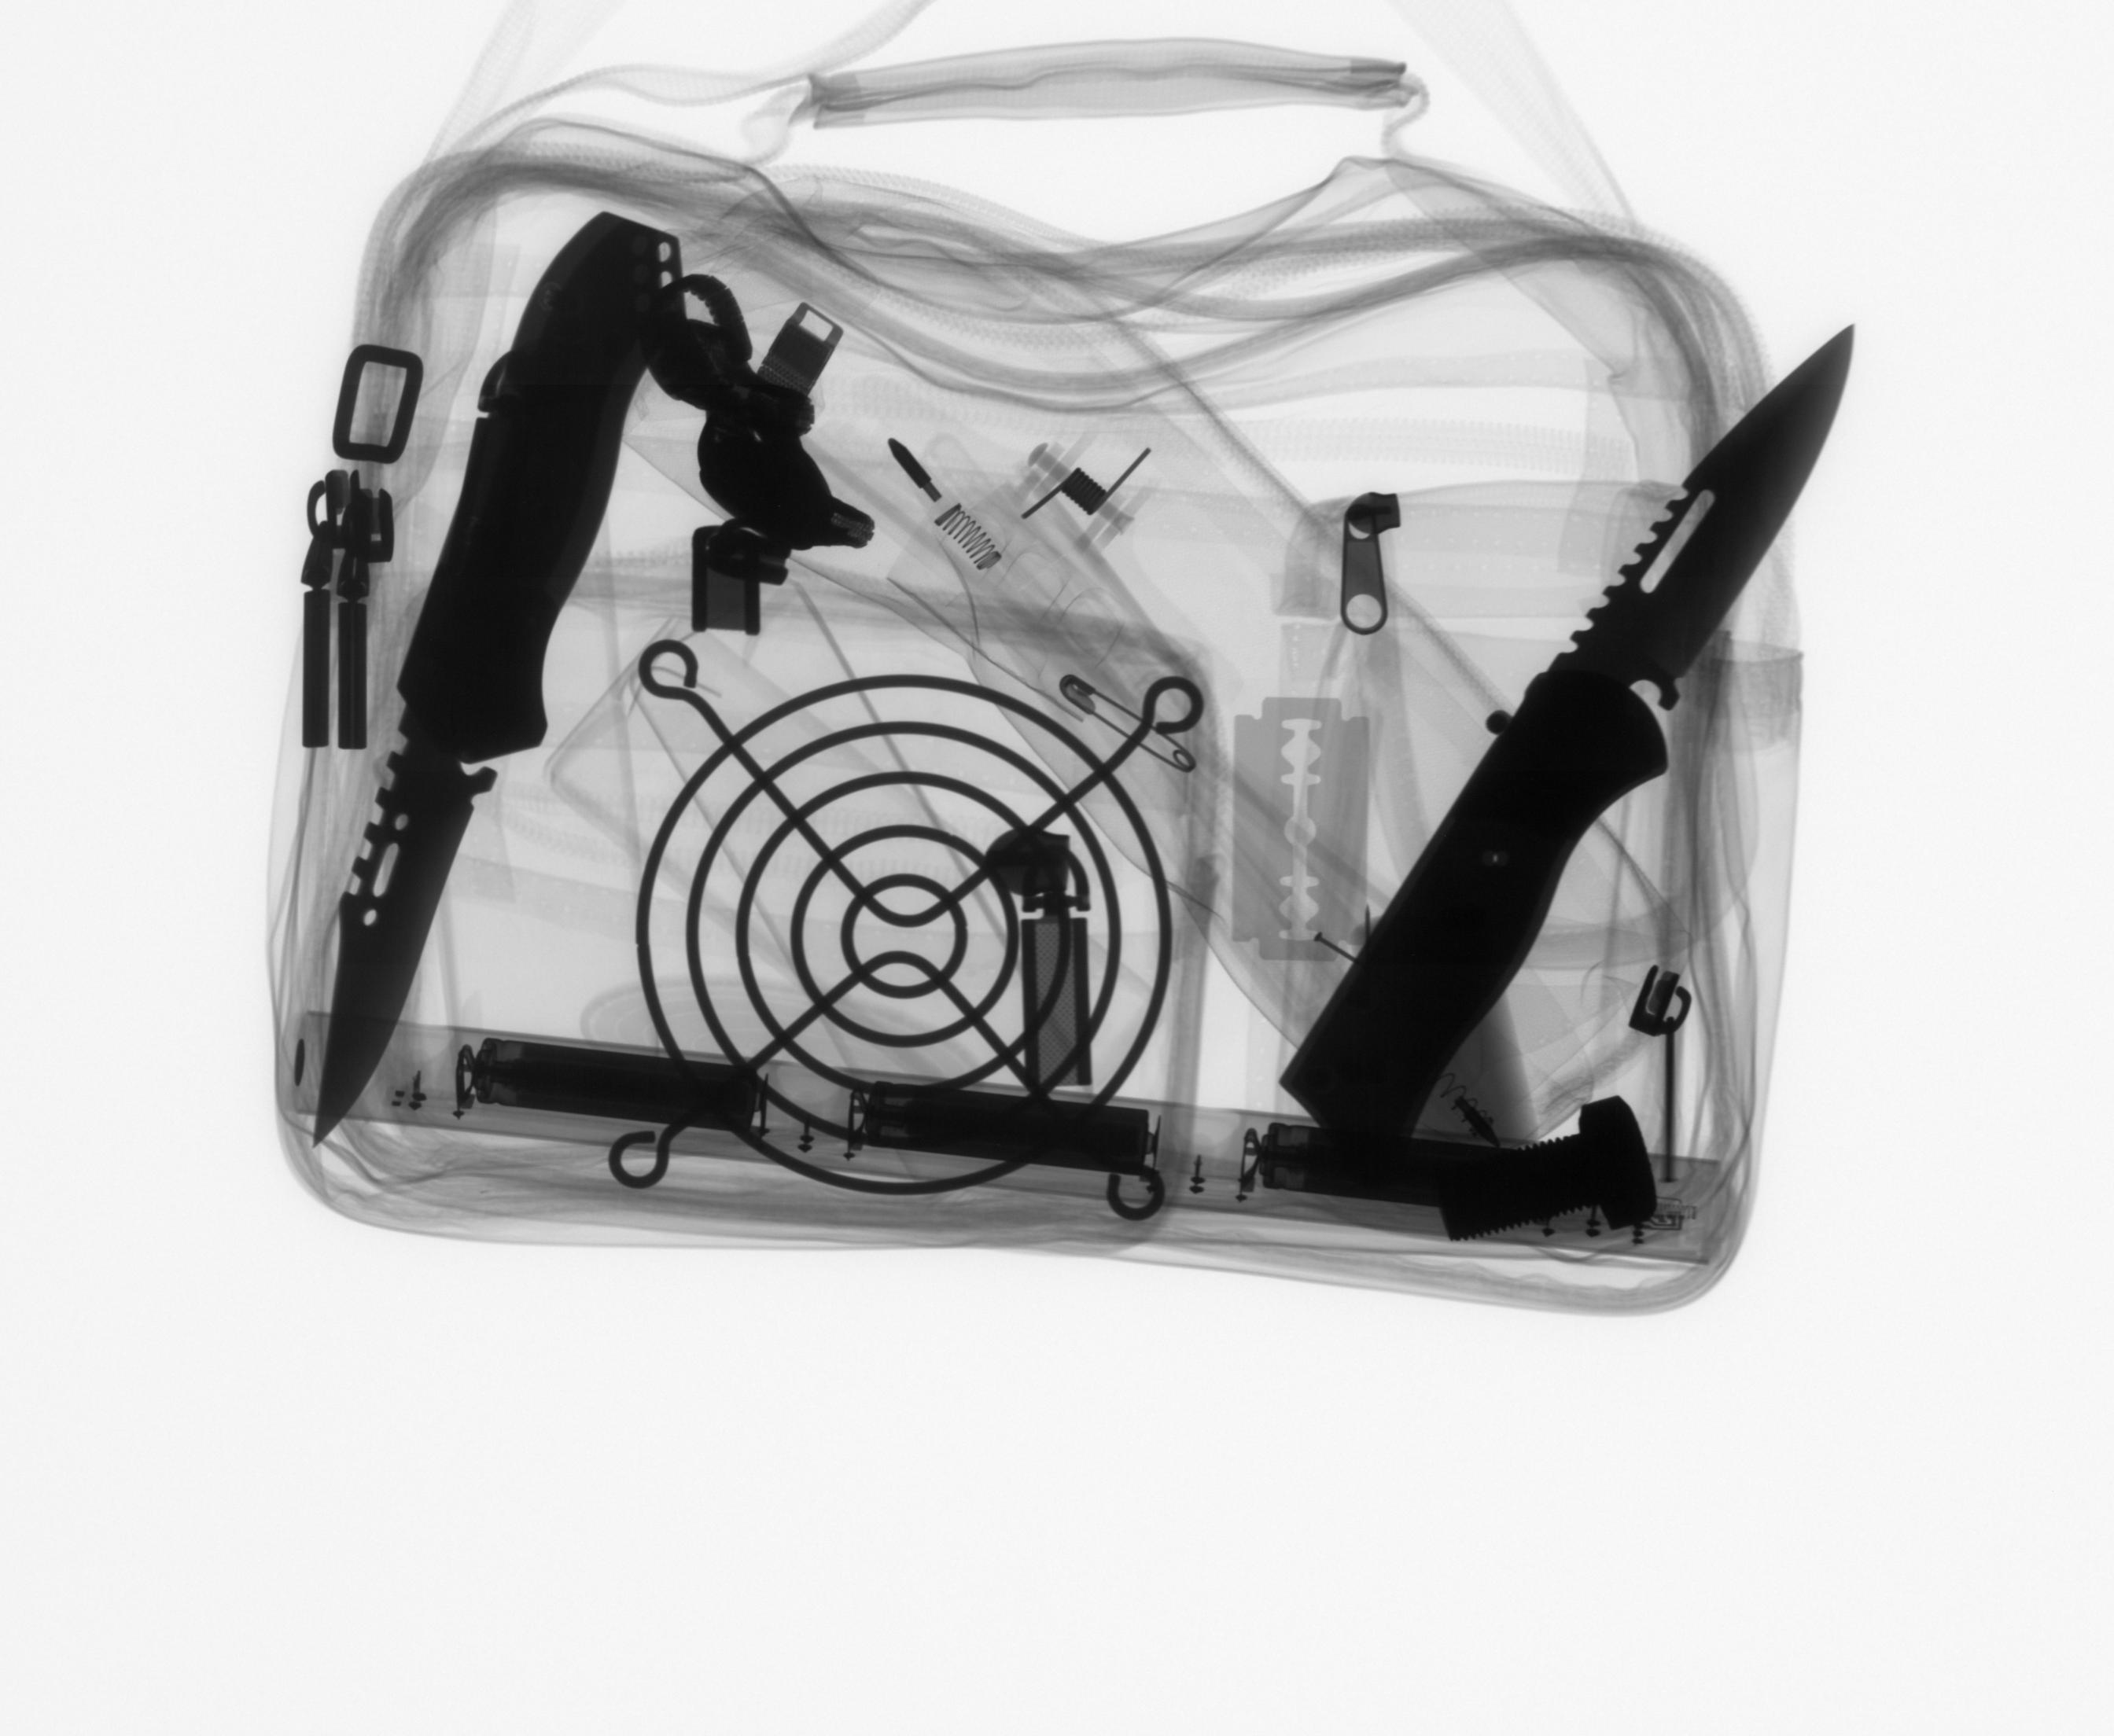Knife: (1268, 314, 1867, 1193), (303, 206, 691, 1160)
RazorBlade: (1219, 684, 1383, 977)
